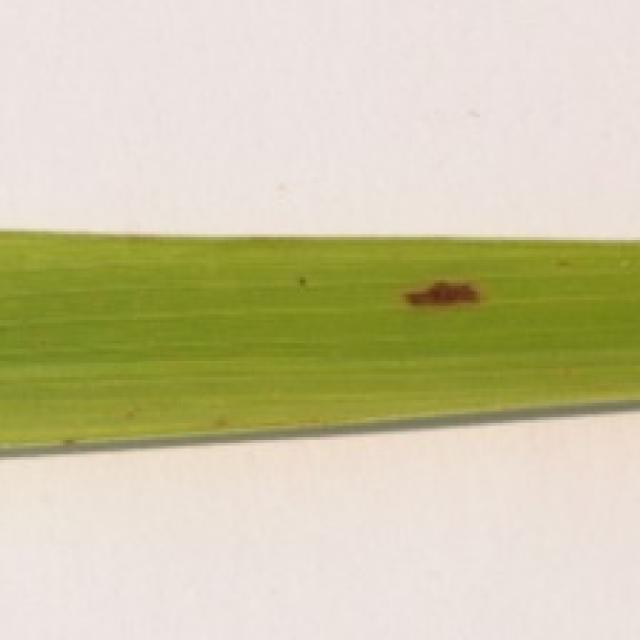Unhealthy: (399, 279, 481, 307), (216, 417, 230, 429), (553, 259, 573, 266), (299, 275, 307, 289), (62, 438, 76, 446)
